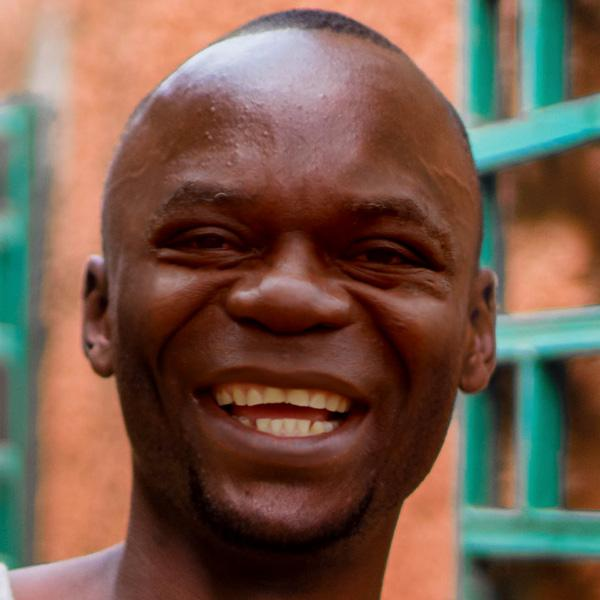Eyes: (331, 226, 441, 287), (154, 209, 256, 271)
